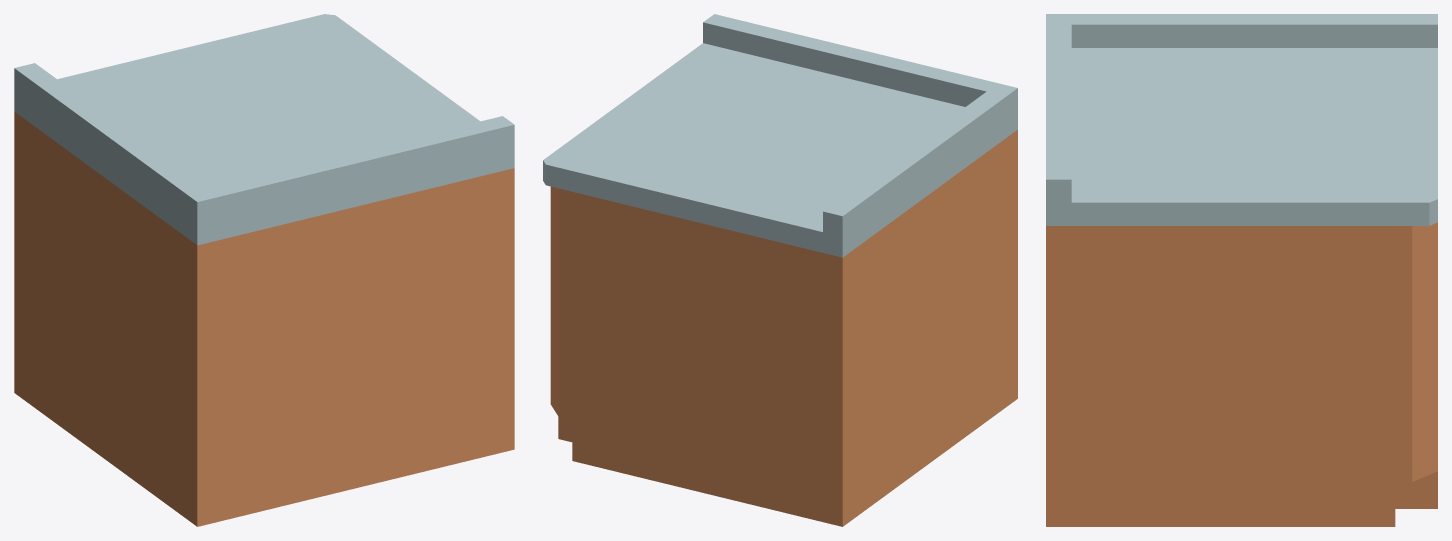
The model's file is kitchenCabinetCornerInner.fbx.
3 views of the same model, side by side, from view 1: azimuth 30°, elevation 25°; view 2: azimuth 150°, elevation 25°; view 3: azimuth 270°, elevation 25° (orthographic). The views are drawn at different scales.
Visible parts, largest first — view 1: kitchenCabinetCornerInner; view 2: kitchenCabinetCornerInner; view 3: kitchenCabinetCornerInner.
Part boxes in pixels (x1,y1,x2,y2): kitchenCabinetCornerInner: [14, 14, 514, 526]; kitchenCabinetCornerInner: [543, 14, 1017, 526]; kitchenCabinetCornerInner: [1046, 14, 1437, 526].
Size of the model in its own units: 4.6 by 4.5 by 4.6.
